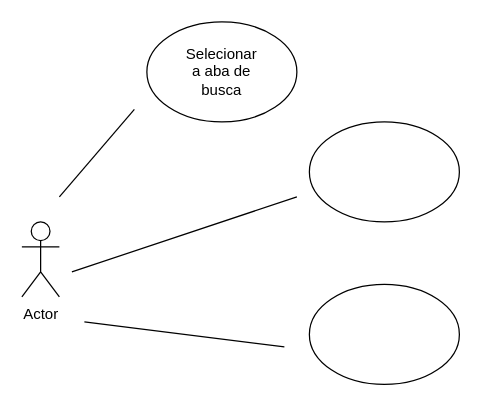
Some shapes in this 481 by 406 pixel diagram are drawn without their labels. The shapes that lost their labels are listed below. From the top down, each one's box as (x1, y1, x2, y2) in pixels, then its label:
(308, 121, 459, 222): Digitar o endereço de destino
(308, 283, 459, 384): escolher a rota
